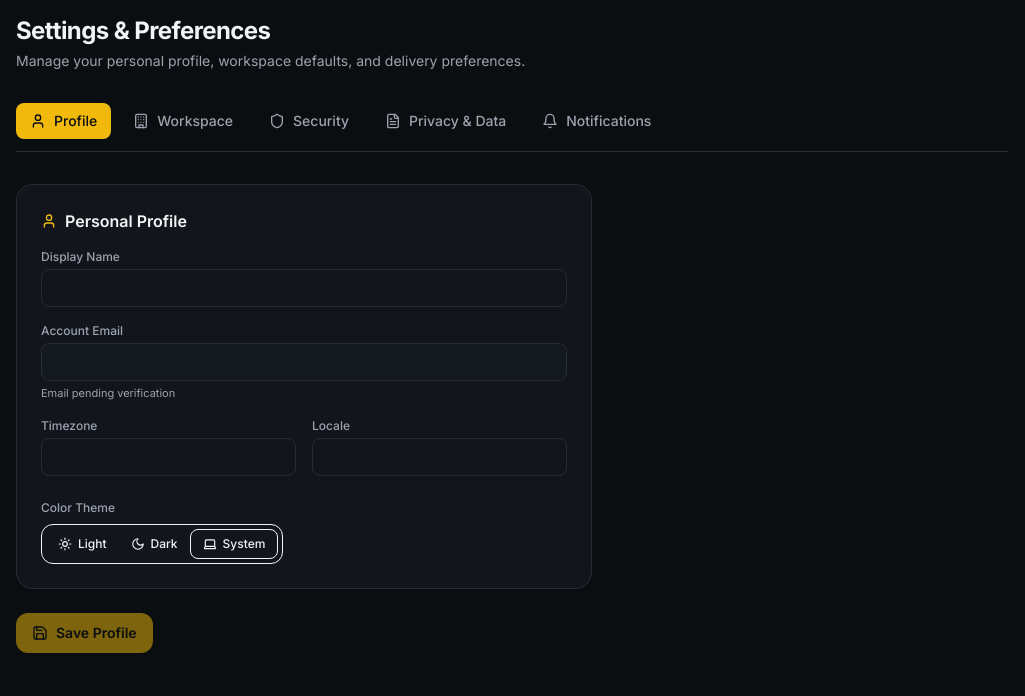
Scenario: SettingsPage › switches to workspace tab and displays diagnostics
Expected: the heading "Settings & Preferences" is shown, [16, 16, 270, 45]
Click the button "Workspace": [183, 121] box [119, 103, 247, 139]
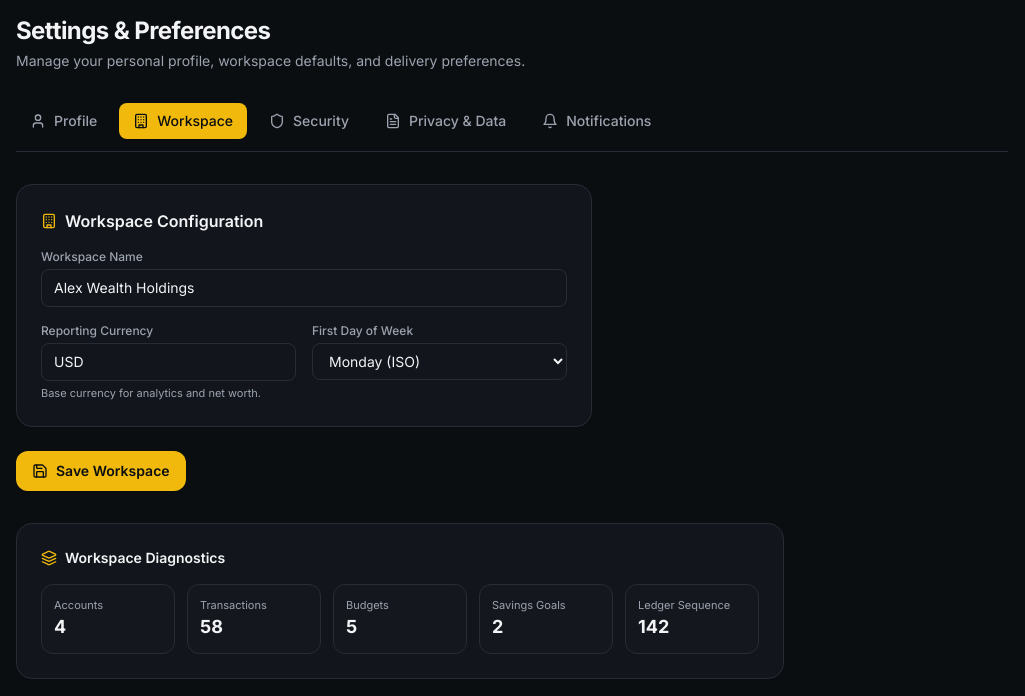
Expected: the heading "Workspace Configuration" is shown, [41, 211, 263, 231]
Expected: the field showing "Alex Wealth Holdings" is shown, [41, 269, 567, 307]
Expected: the heading "Workspace Diagnostics" is shown, [41, 548, 225, 566]
